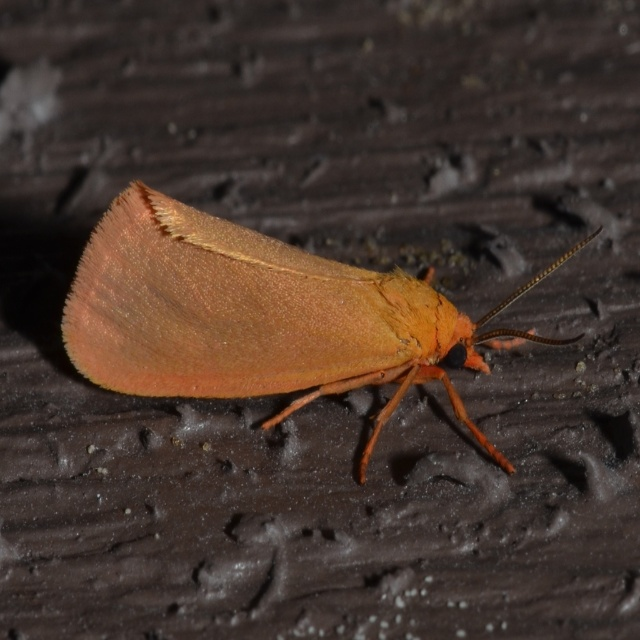Moths and butterflies: (59, 176, 607, 489)
